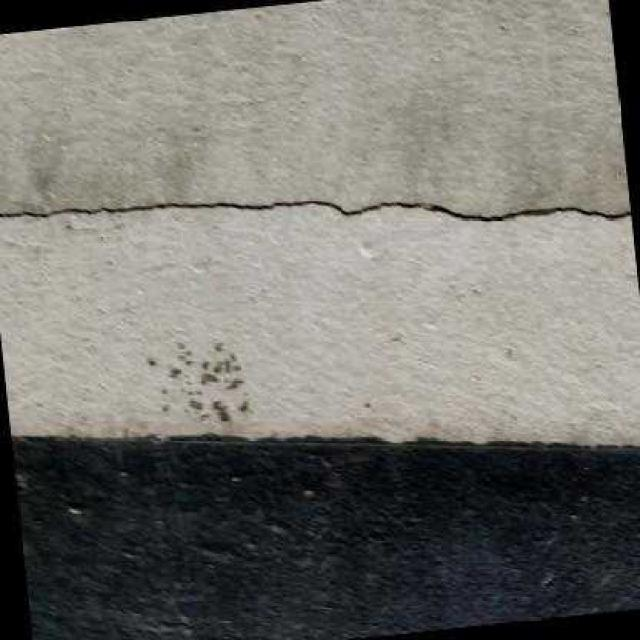D00: (0, 198, 631, 219)
